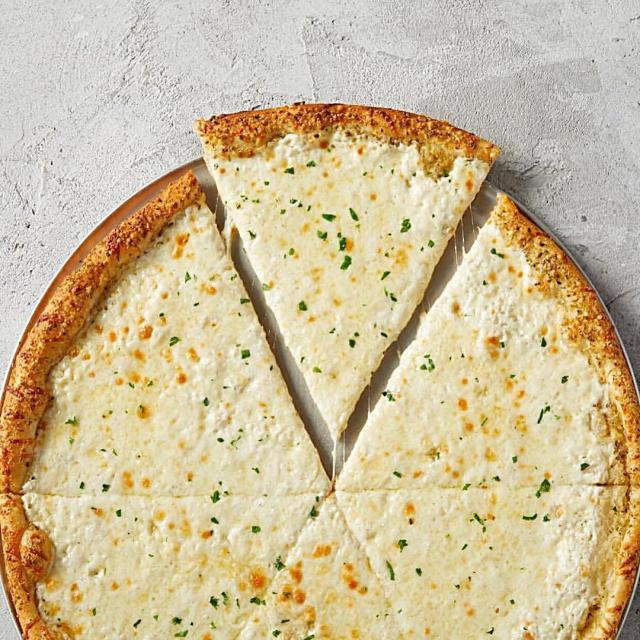pizza: (0, 99, 640, 640)
